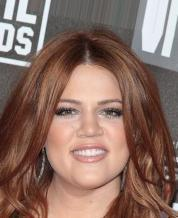face: (55, 98, 123, 165)
